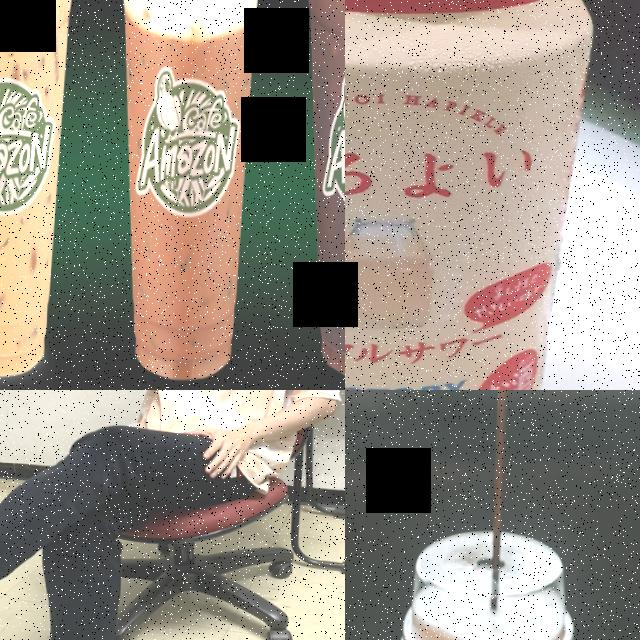can: (345, 0, 595, 390)
cup: (97, 0, 276, 385), (0, 0, 94, 381), (280, 0, 345, 382), (396, 523, 577, 640)
